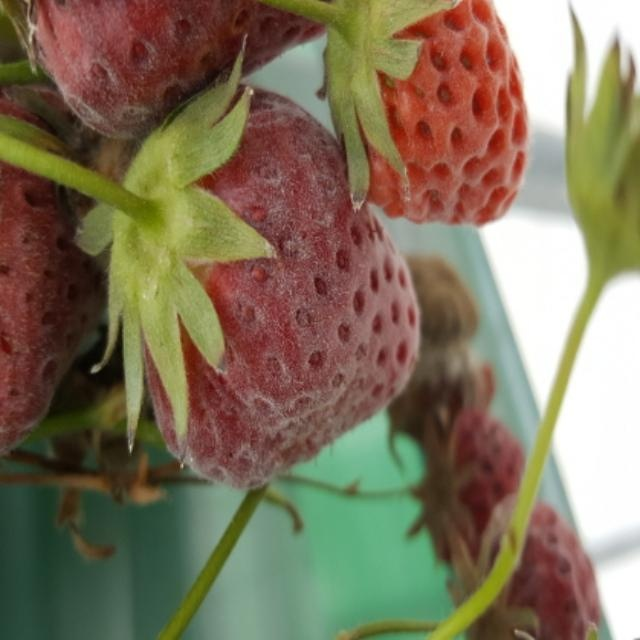Powdery Mildew Fruit: (112, 82, 423, 492), (17, 2, 335, 138), (0, 92, 108, 457)
